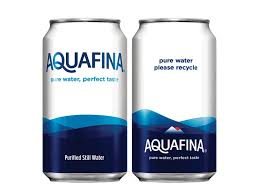Metal: (132, 18, 217, 183), (42, 19, 128, 182)
